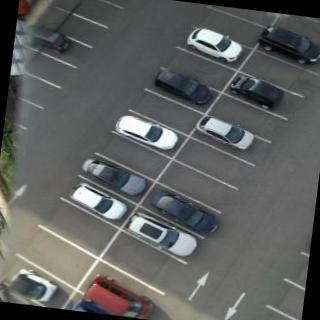car: (78, 272, 160, 320), (121, 213, 203, 258), (148, 192, 224, 237), (79, 158, 152, 199), (256, 25, 320, 71), (64, 182, 129, 223), (112, 115, 182, 153), (193, 115, 257, 154), (153, 69, 217, 108), (226, 75, 288, 114), (184, 26, 245, 65), (4, 266, 62, 304)
parking-space: (8, 222, 105, 296), (96, 228, 195, 299), (34, 197, 125, 264), (148, 155, 242, 218), (202, 90, 295, 148), (170, 135, 263, 193), (91, 130, 182, 188), (129, 87, 214, 141), (235, 48, 320, 101), (159, 47, 243, 96), (190, 7, 272, 53), (35, 6, 109, 52), (52, 1, 125, 30)
